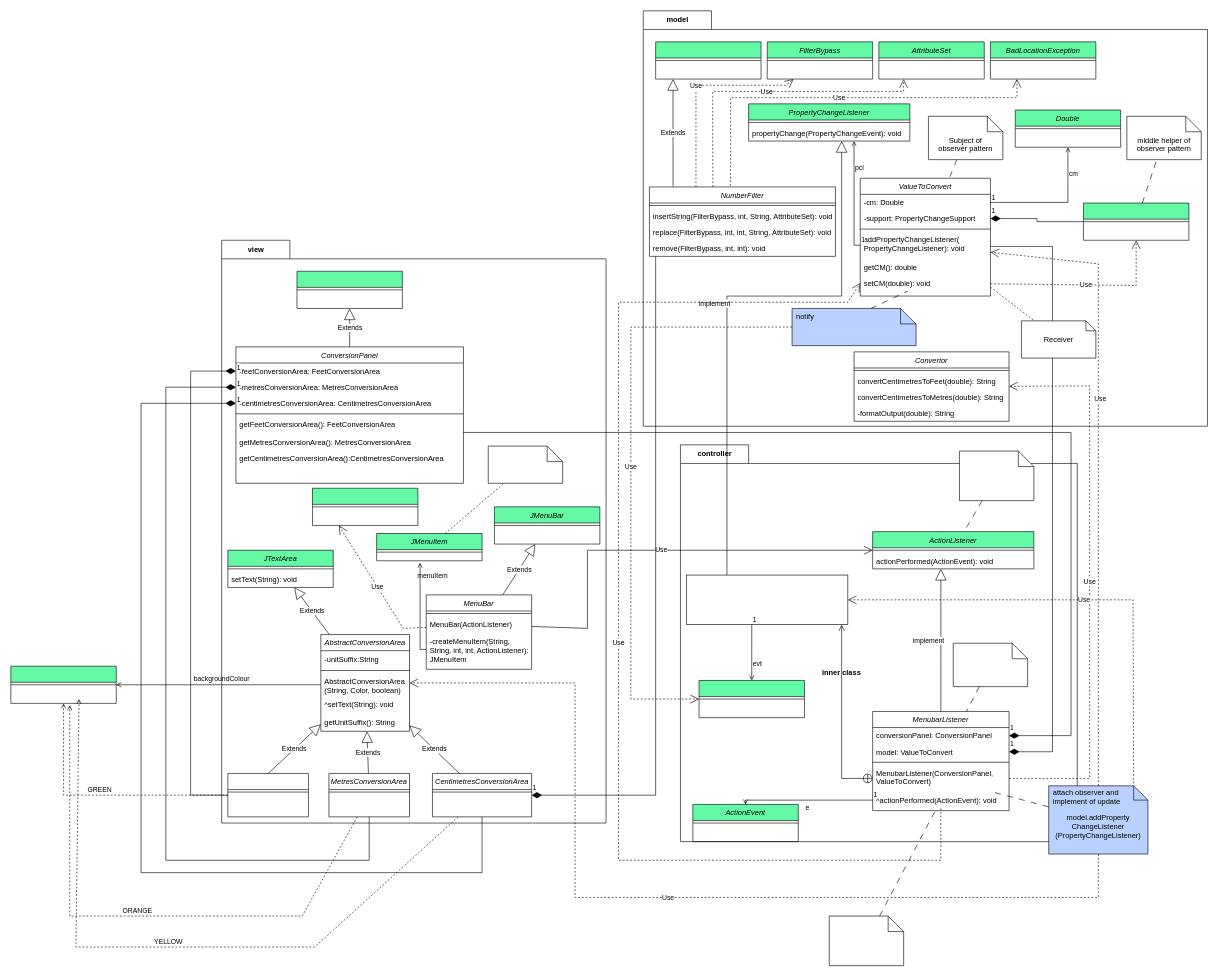
This 1218x977 diagram has some shape labels left out. Each missing label, with the centre of its shape:
<<anonymous>> PropertyChangeListener ^propertyChange(PropertyChangeEvent): void: (767,599)
Color: (63,684)
concrete command: (866,940)
create commond for menuitem: update button: (996,475)
DocumentFilter: (708,60)
FeetConversionArea: (267,795)
Invoker: (525,464)
JMenu: (365,506)
JPanel: (349,289)
observer of observer pattern: (990,665)
PropertyChangeEvent: (751,699)
PropertyChangeSupport: (1136,221)
support.firePropertyChange("cm", this.cm, acm);: (853,327)
